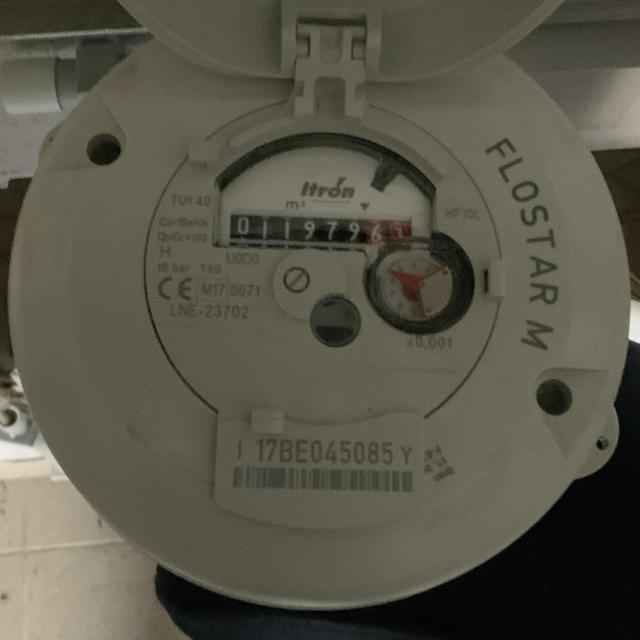gaz_meter: (146, 96, 507, 426)
indication: (227, 205, 414, 249)
